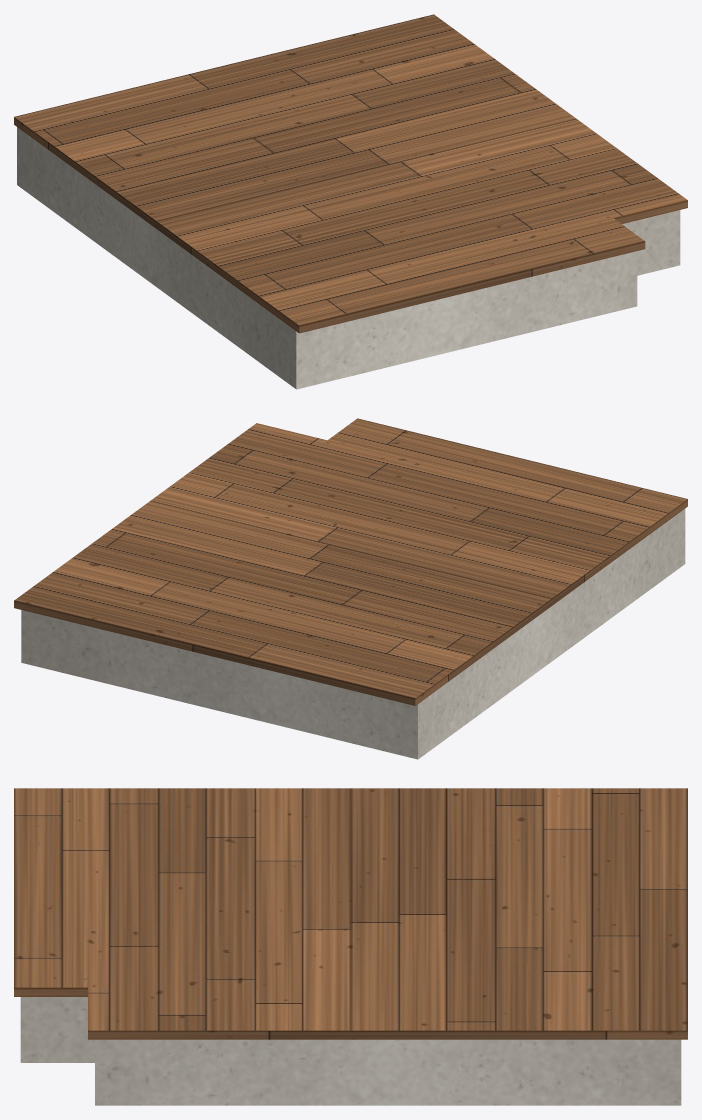
The model's file is floor_floor_u_e1000_h3.glb.
3 renders of one model, top to bottom at view 1: azimuth 30°, elevation 25°; view 2: azimuth 150°, elevation 25°; view 3: azimuth 270°, elevation 25°, orthographic. The views are drawn at different scales.
Parts seen in each view (by area): view 1: floor_floor_u_e1000_h3_floor, floor_floor_u_e1000_h3_plaster; view 2: floor_floor_u_e1000_h3_floor, floor_floor_u_e1000_h3_plaster; view 3: floor_floor_u_e1000_h3_floor, floor_floor_u_e1000_h3_plaster.
Part boxes in pixels (x1,y1,x2,y2): floor_floor_u_e1000_h3_floor: (14,14,687,333); floor_floor_u_e1000_h3_plaster: (17,127,680,389); floor_floor_u_e1000_h3_floor: (14,418,687,705); floor_floor_u_e1000_h3_plaster: (21,509,685,759); floor_floor_u_e1000_h3_floor: (14,788,687,1039); floor_floor_u_e1000_h3_plaster: (20,997,681,1105).
Size of the model in its own units: 1.7 by 0.255 by 2.
Materials: 2 (2 with a texture image).
